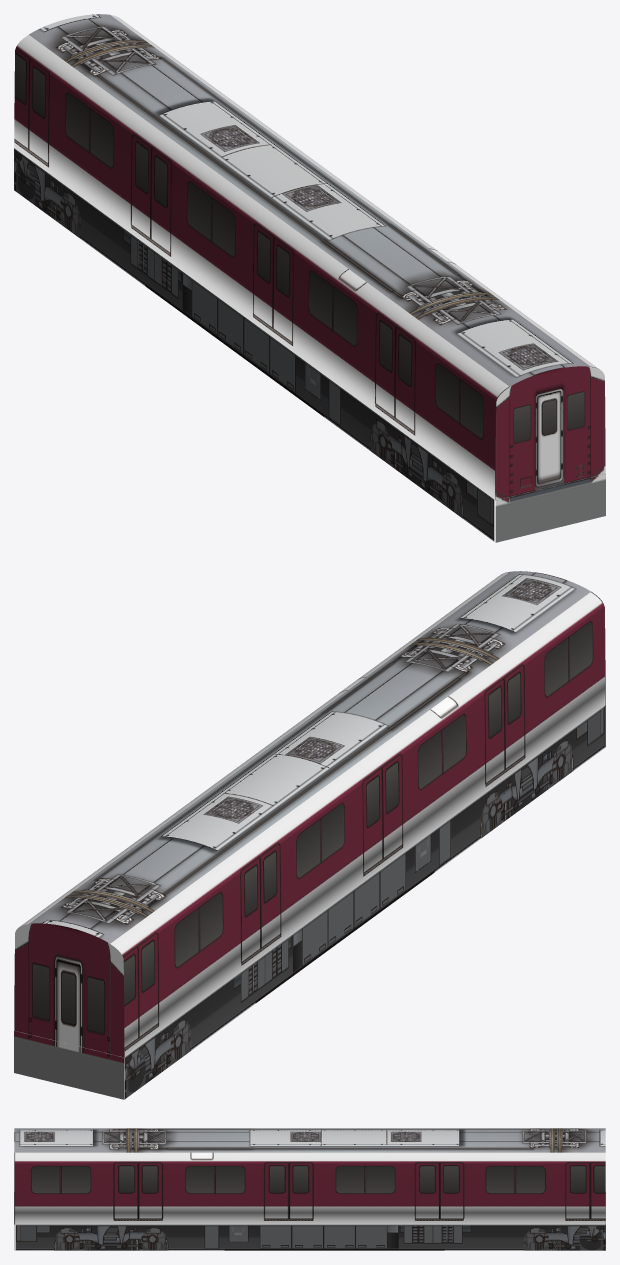
File: car2.glb
3 views of the same model, one above another, from view 1: azimuth 30°, elevation 25°; view 2: azimuth 150°, elevation 25°; view 3: azimuth 270°, elevation 25° (orthographic). The views are drawn at different scales.
Parts seen in each view (by area): view 1: kintetsu-1200-car2; view 2: kintetsu-1200-car2; view 3: kintetsu-1200-car2.
Boxes of the visible parts, x1,y1,x2,y2 form: kintetsu-1200-car2: (14,14,605,542); kintetsu-1200-car2: (14,571,605,1099); kintetsu-1200-car2: (14,1128,605,1250).
Bounding box in the file's own units: 2.74 × 3.77 × 20.75.
9 materials, 8 textured.
